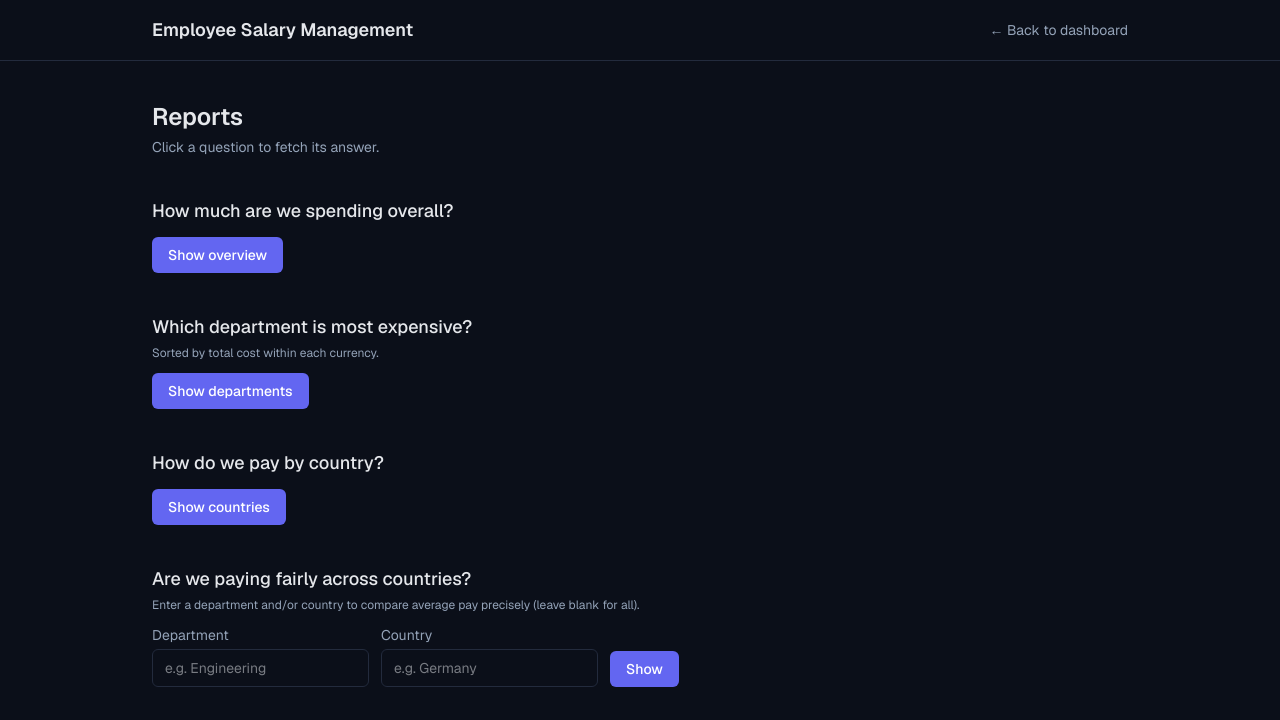
Test case: ReportsPage › fetches by-department only when its button is clicked
Click the button "Show departments".
click(230, 391)  # box 152,373 -> 309,409
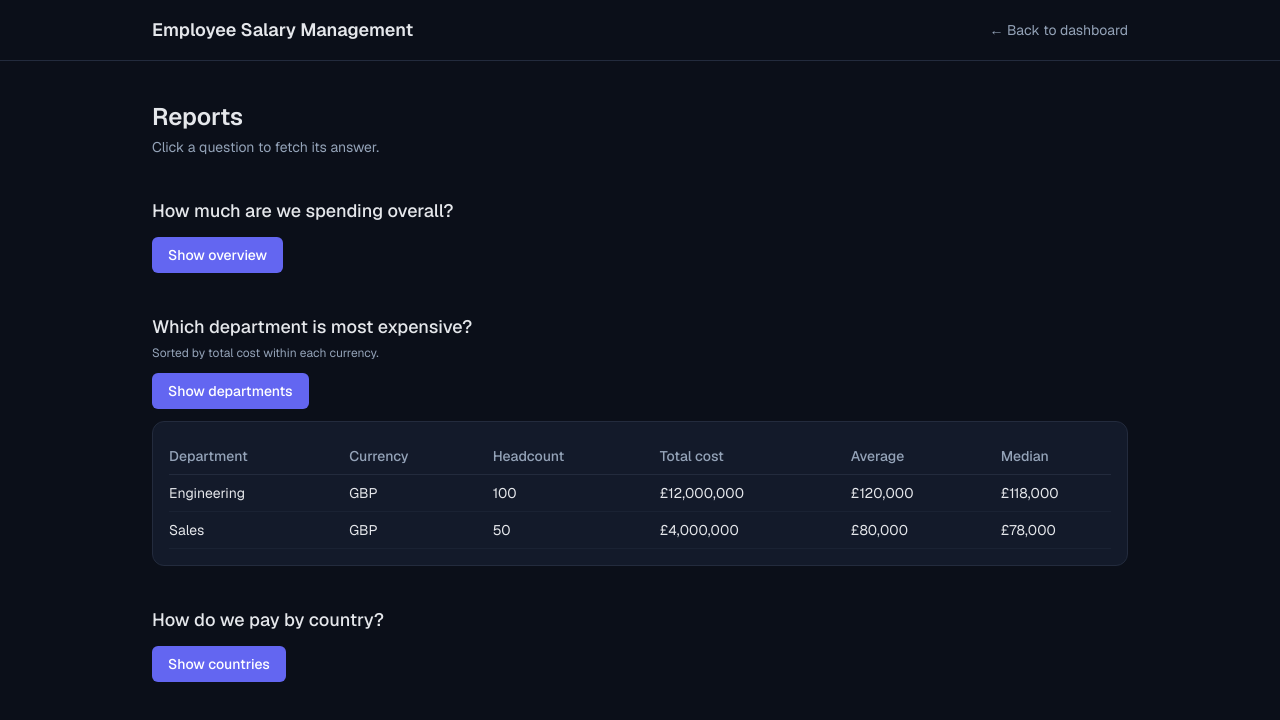
Result: the text "Engineering" is shown at 169,474 -> 349,512
